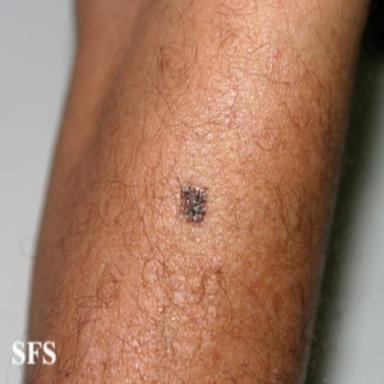Melanoma: (182, 184, 208, 222)
